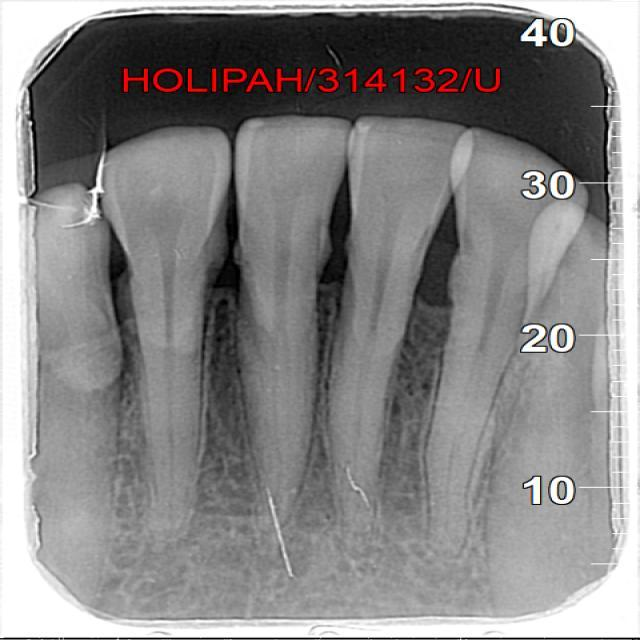individual-tooth-8tto: (427, 125, 590, 550), (327, 110, 477, 513), (96, 122, 230, 537), (234, 116, 351, 519)
